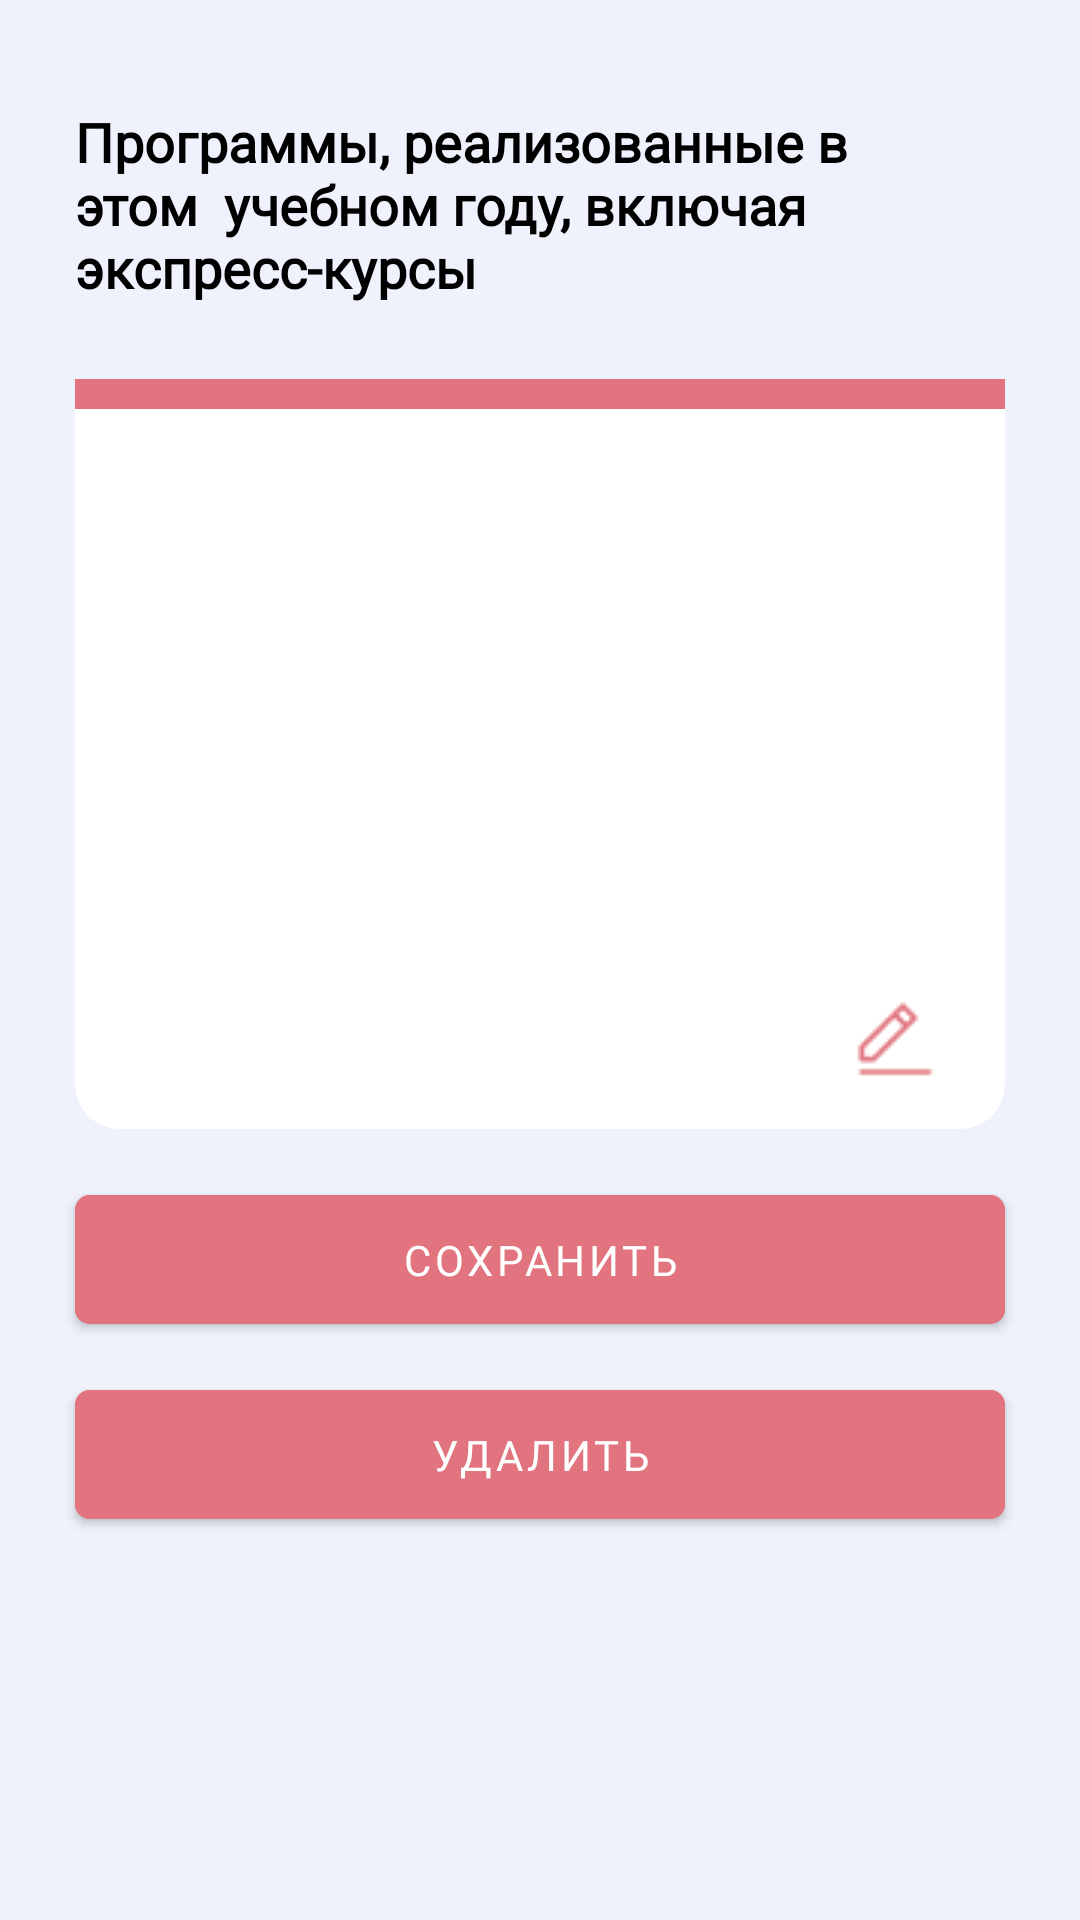

Where icons sit on this 1080×1920 app screen, as (x1, y1, x2, y2):
edit: (857, 1002, 933, 1076)
